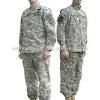uniform: (19, 6, 52, 94), (59, 6, 85, 91)
